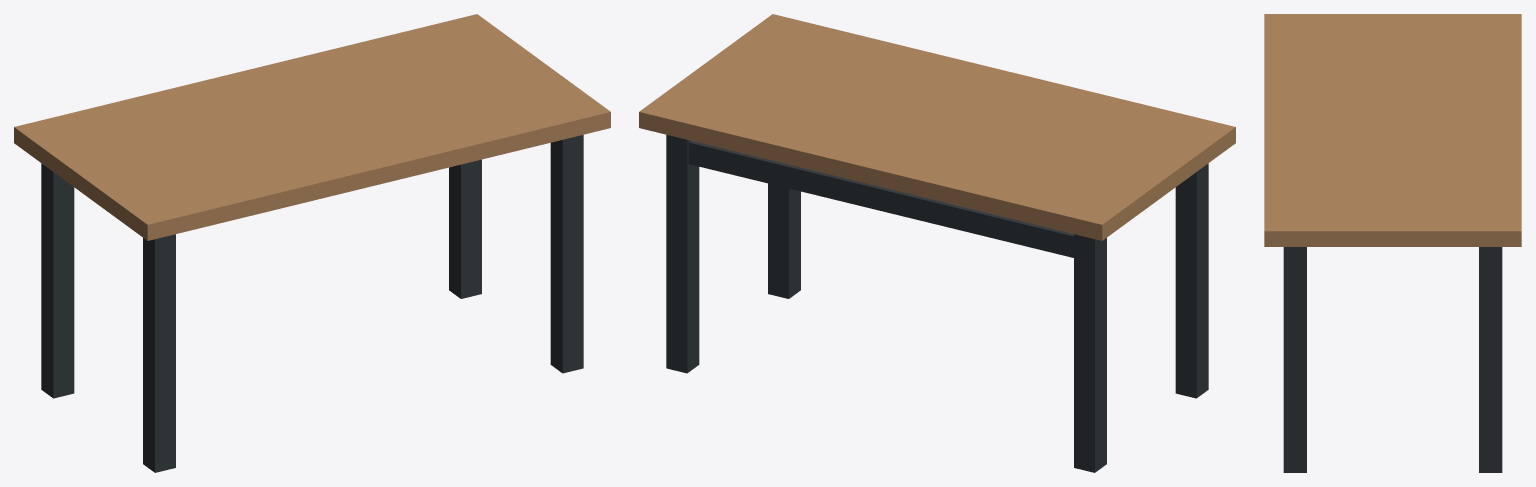
Rendered from table.glb.
The picture shows the model from 3 angles, left to right: view 1: azimuth 30°, elevation 25°; view 2: azimuth 150°, elevation 25°; view 3: azimuth 270°, elevation 25°; orthographic projection. The views are drawn at different scales.
Parts seen in each view (by area): view 1: 桌面, 金属桌腿.002, 金属桌腿, 金属桌腿.001, 金属桌腿.003; view 2: 桌面, 桌下横梁, 金属桌腿.001, 金属桌腿.003, 金属桌腿, 金属桌腿.002; view 3: 桌面, 金属桌腿.002, 金属桌腿.003.
Boxes of the visible parts, <box> form: 桌面: <box>14,14,610,240</box>; 金属桌腿.002: <box>550,134,583,373</box>; 金属桌腿: <box>143,234,175,472</box>; 金属桌腿.001: <box>41,163,74,398</box>; 金属桌腿.003: <box>449,159,481,298</box>; 桌面: <box>639,14,1235,240</box>; 桌下横梁: <box>688,141,1073,257</box>; 金属桌腿.001: <box>1074,234,1106,472</box>; 金属桌腿.003: <box>666,134,699,373</box>; 金属桌腿: <box>1175,163,1208,398</box>; 金属桌腿.002: <box>768,183,800,298</box>; 桌面: <box>1264,14,1521,246</box>; 金属桌腿.002: <box>1283,247,1306,472</box>; 金属桌腿.003: <box>1479,247,1502,472</box>.
Bounding box in the file's own units: 1.4 × 0.75 × 0.7.
